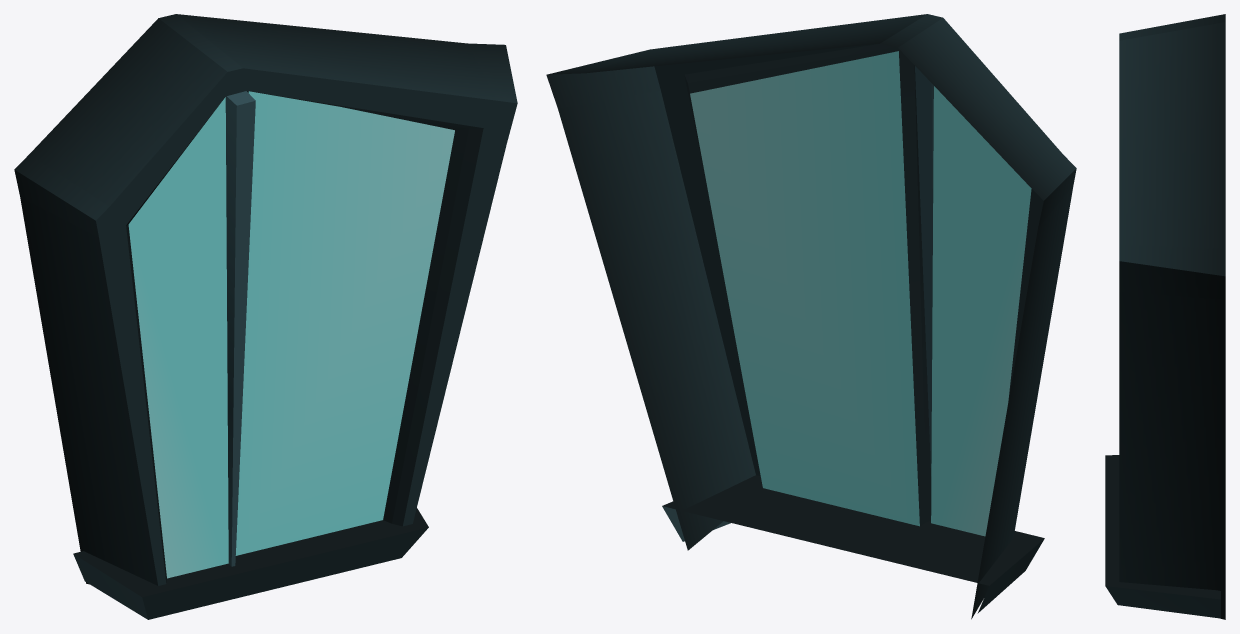
The model's file is c_house_door_slide_ab.fbx.
3 renders of one model, left to right at view 1: azimuth 30°, elevation 25°; view 2: azimuth 150°, elevation 25°; view 3: azimuth 270°, elevation 25°, orthographic. The views are drawn at different scales.
Parts seen in each view (by area): view 1: c_house_door_slide_ab; view 2: c_house_door_slide_ab; view 3: c_house_door_slide_ab.
Part boxes in pixels (left/top/right/bottom): c_house_door_slide_ab: left=14, top=14, right=517, bottom=619; c_house_door_slide_ab: left=546, top=14, right=1076, bottom=619; c_house_door_slide_ab: left=1105, top=14, right=1225, bottom=619.
Size of the model in its own units: 2.45 by 2.61 by 0.5579.
